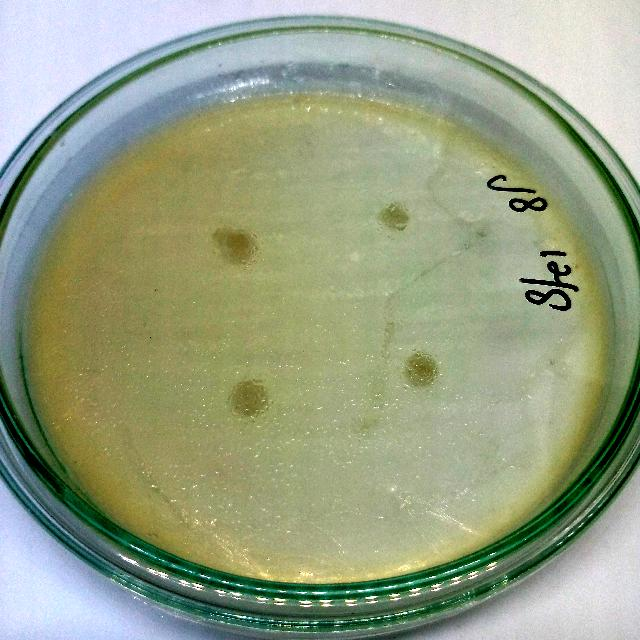colony: (206, 216, 266, 274), (224, 368, 274, 424), (398, 349, 447, 395), (373, 198, 419, 242)
